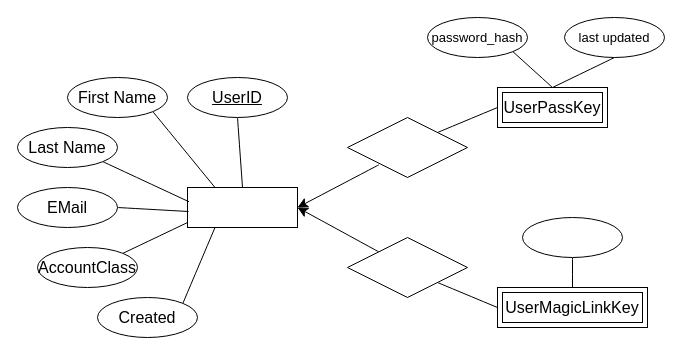
Some shapes in this 682 by 355 pixel diagram are drawn without their labels. The shapes that lost their labels are listed below. From the top down, each one's centre as x and y in pixels, then its label:
At pixel 407 147: "canLogin".
At pixel 242 207: "User".
At pixel 572 237: "Code".
At pixel 407 267: "canUseMagicLink".
